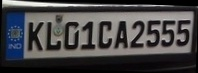character: (27, 20, 43, 51), (45, 20, 61, 50), (63, 21, 79, 50), (113, 19, 128, 48), (80, 21, 95, 49), (129, 19, 144, 47), (145, 19, 160, 47), (160, 19, 175, 47), (175, 18, 190, 46), (98, 19, 112, 48)
